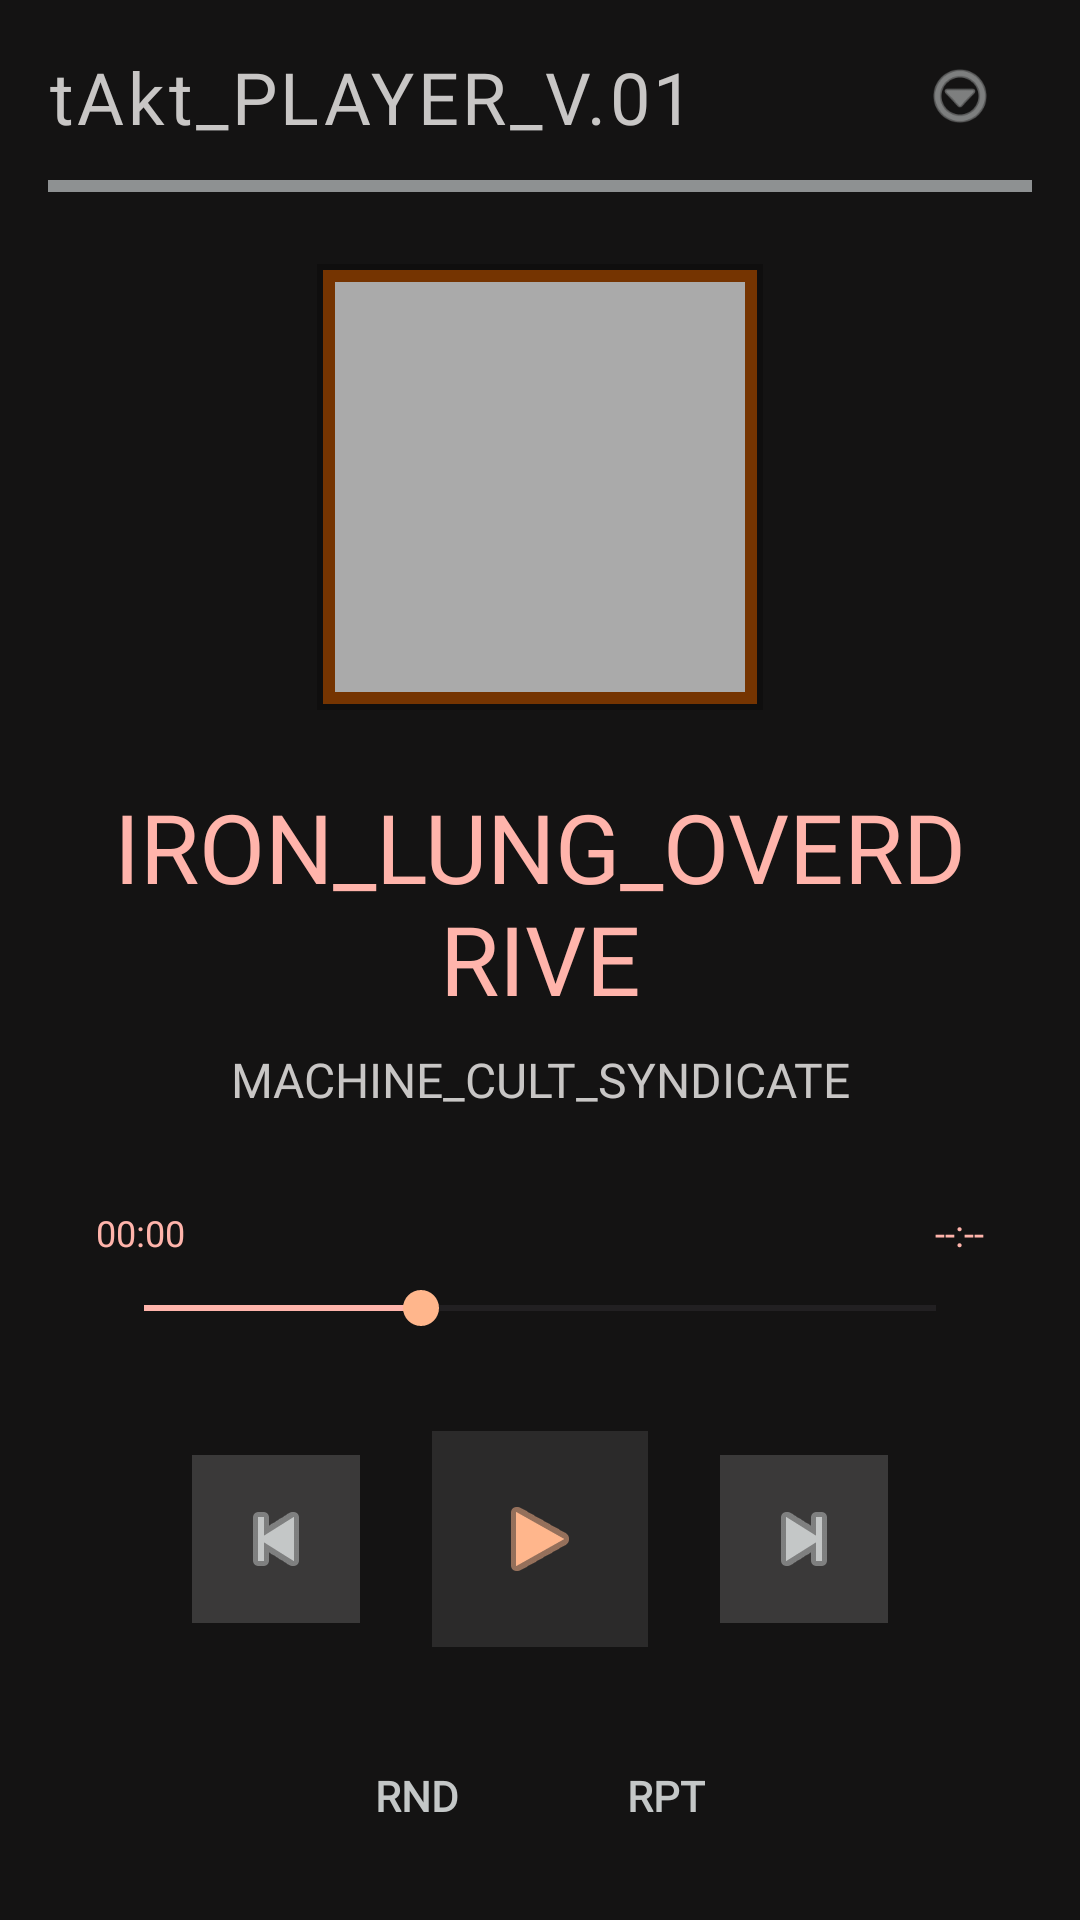

Where to tap for icons on this 1080px×1920px app screen, as (x,y):
more: (960,96)
next: (804,1539)
play: (540,1539)
previous: (276,1539)
